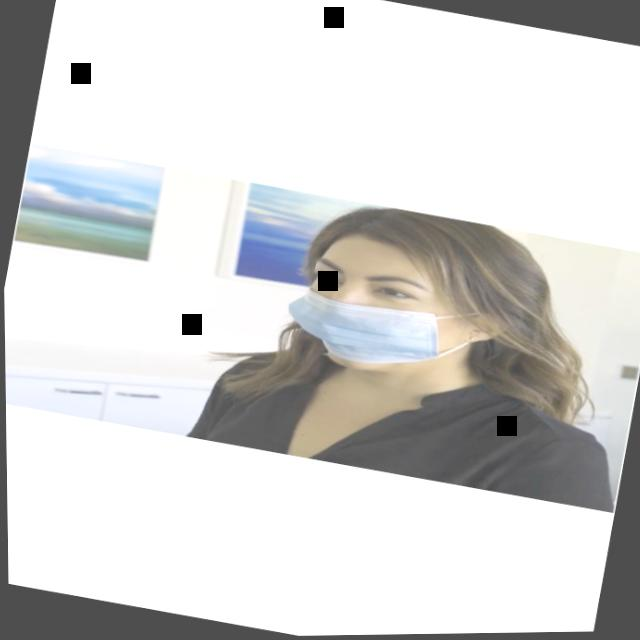Mask: (276, 216, 507, 393)
